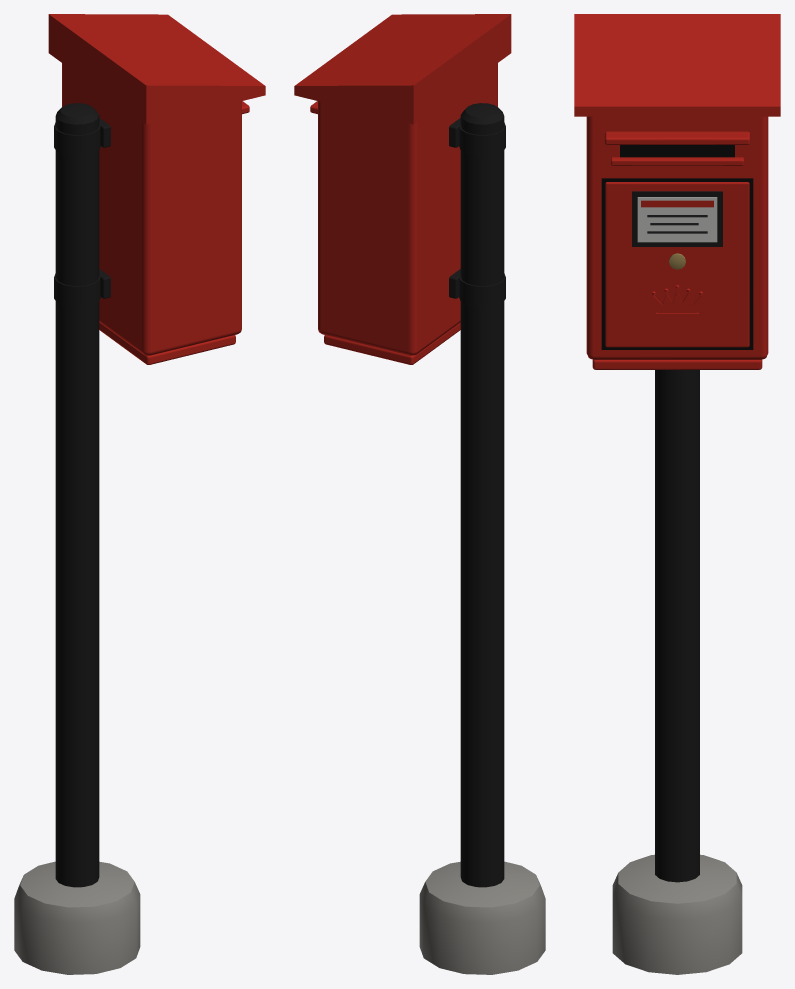
Rendered from SM_Prop_post_box_2.glb.
The picture shows the model from 3 angles, left to right: view 1: azimuth 30°, elevation 25°; view 2: azimuth 150°, elevation 25°; view 3: azimuth 270°, elevation 25°; orthographic projection. The views are drawn at different scales.
Visible parts, largest first — view 1: SM_Prop_post_box_2; view 2: SM_Prop_post_box_2; view 3: SM_Prop_post_box_2.
Boxes of the visible parts, x1,y1,x2,y2 form: SM_Prop_post_box_2: (14, 14, 265, 974); SM_Prop_post_box_2: (294, 14, 545, 974); SM_Prop_post_box_2: (574, 14, 780, 974).
Size of the model in its own units: 0.39 by 1.72 by 0.34.
